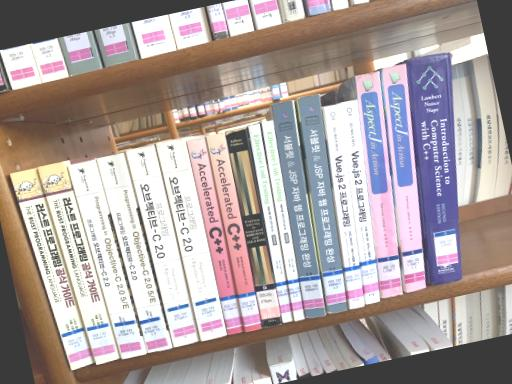book-spine: (9, 167, 95, 371), (36, 161, 120, 365), (67, 160, 146, 359), (96, 153, 173, 353), (155, 137, 227, 341), (127, 145, 199, 348), (408, 52, 462, 286), (273, 100, 327, 319), (186, 137, 244, 334), (205, 132, 261, 332), (226, 127, 282, 327), (298, 93, 348, 313), (382, 64, 428, 292), (357, 71, 403, 298), (248, 123, 293, 323), (262, 120, 306, 321), (323, 104, 365, 309), (341, 100, 380, 304)
